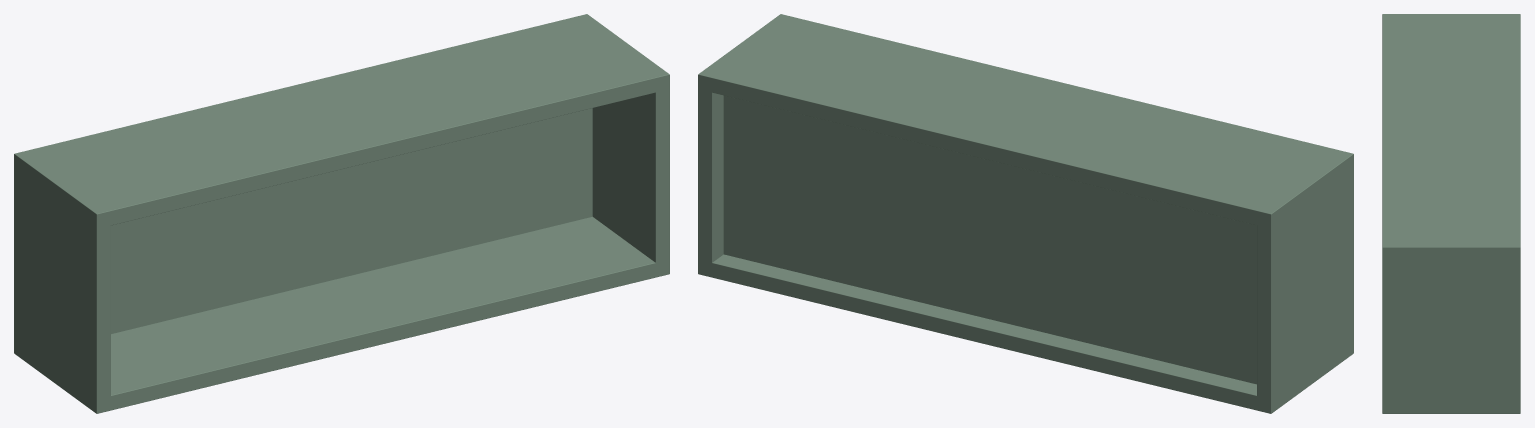
Rendered from MODH_2X07_A_B_VA.glb.
The picture shows the model from 3 angles, left to right: view 1: azimuth 30°, elevation 25°; view 2: azimuth 150°, elevation 25°; view 3: azimuth 270°, elevation 25°; orthographic projection. The views are drawn at different scales.
Bounding box in the file's own units: 720 × 240 × 180.
